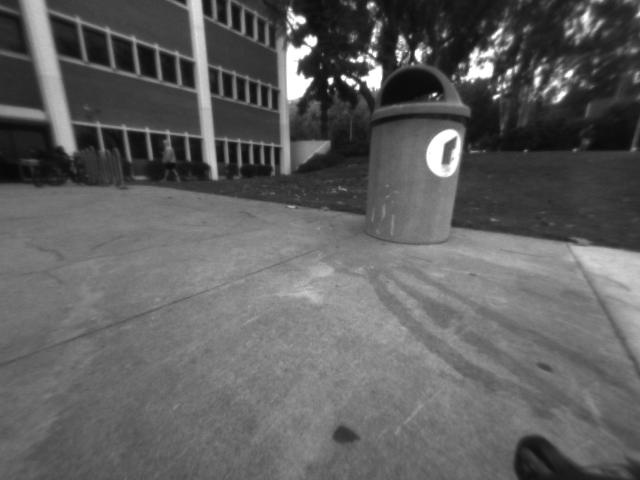trashcan: (358, 62, 473, 250)
